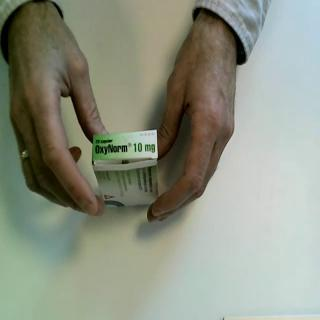oxynorm10mg: (91, 129, 162, 210)
